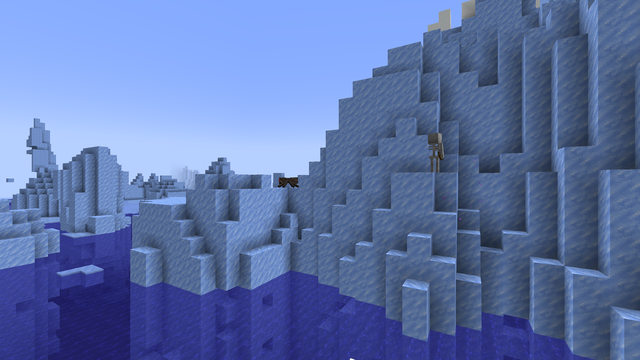araignees: (275, 176, 297, 187)
squelettes: (427, 132, 440, 172)
